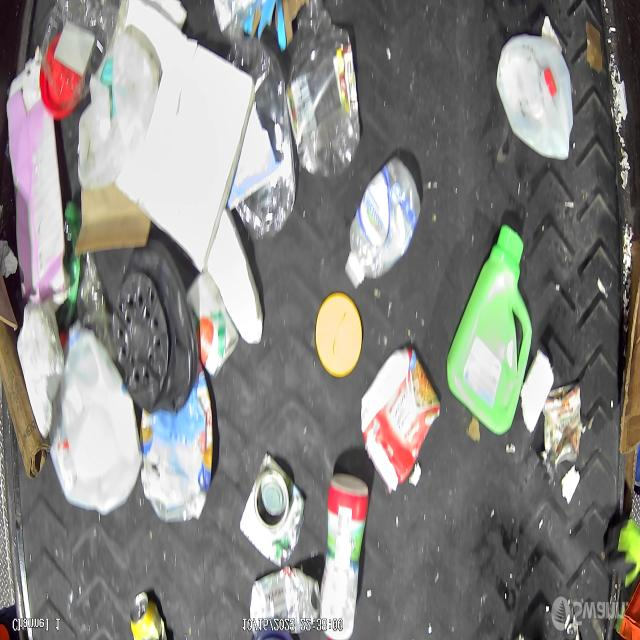can: (242, 447, 306, 564), (186, 269, 240, 379), (250, 566, 321, 637), (542, 382, 584, 470), (129, 590, 167, 640)
milk_jug: (53, 323, 143, 515), (77, 34, 159, 191), (498, 31, 576, 162)
non_white_jug: (449, 220, 535, 432)
plastic_bottle: (229, 31, 297, 237), (287, 3, 359, 182), (343, 156, 423, 285)
